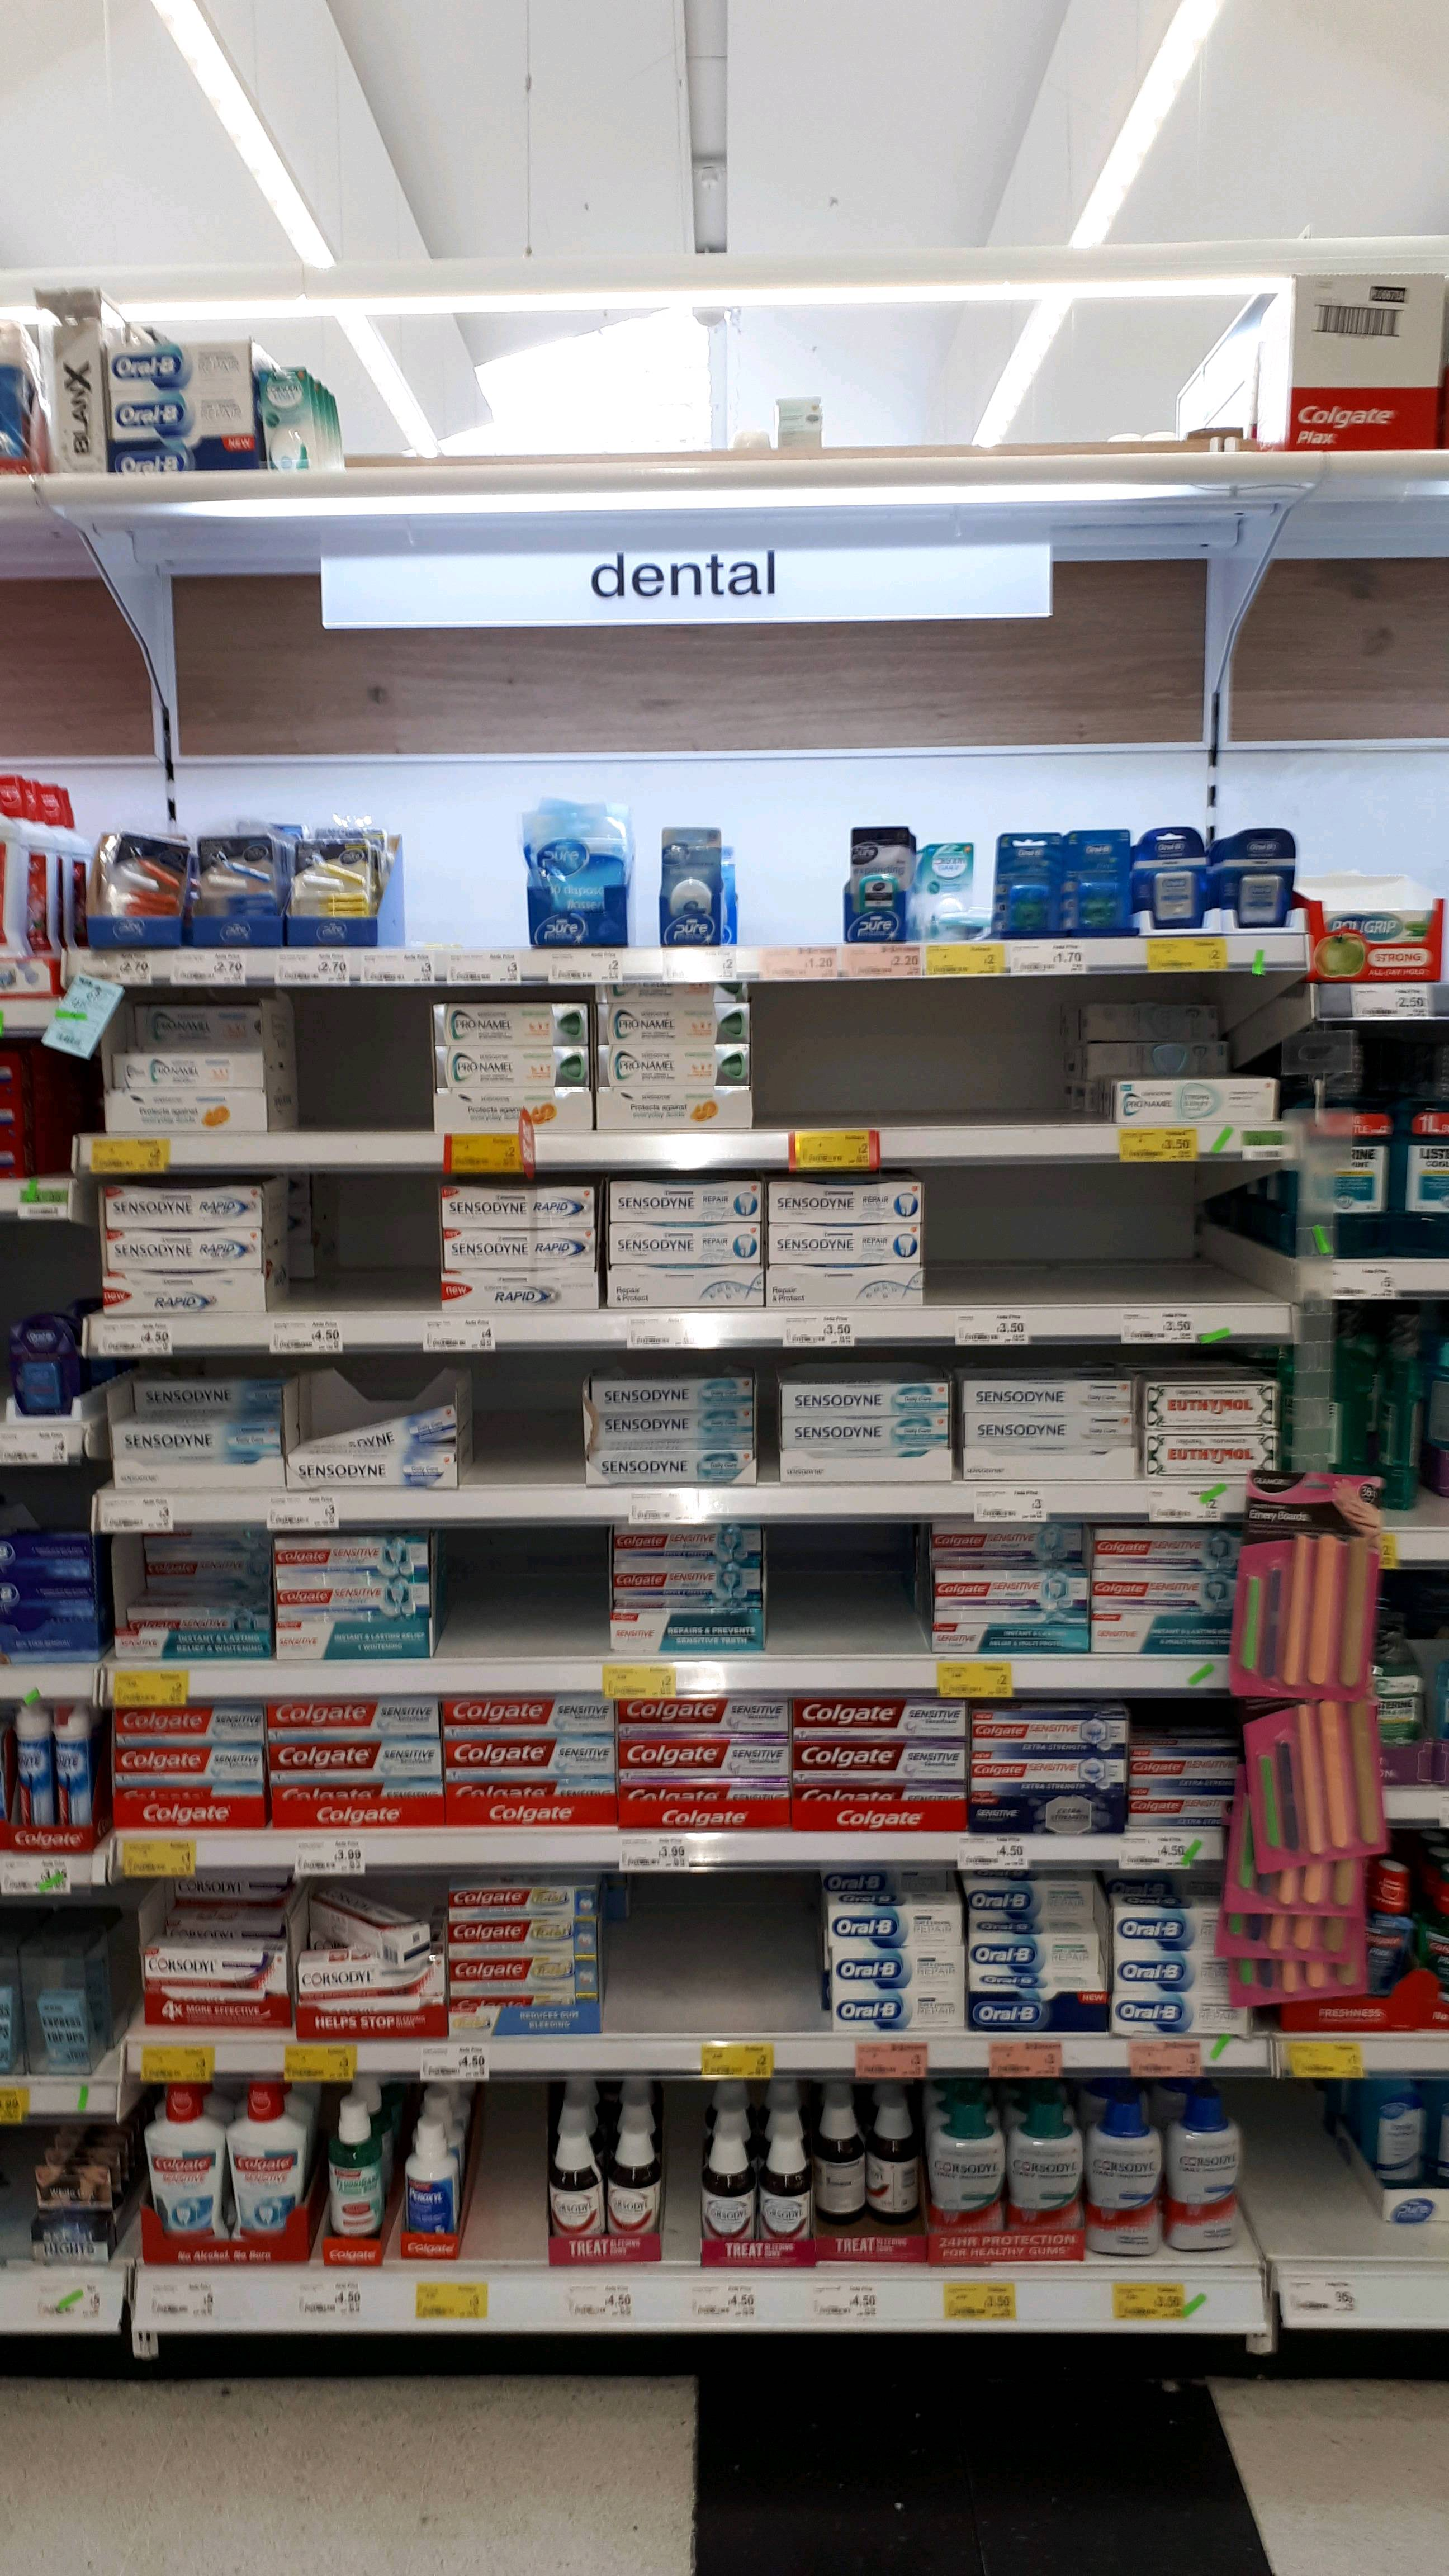Misplacement: (115, 1530, 272, 1656)
Out-of-stock: (757, 982, 1108, 1125)
